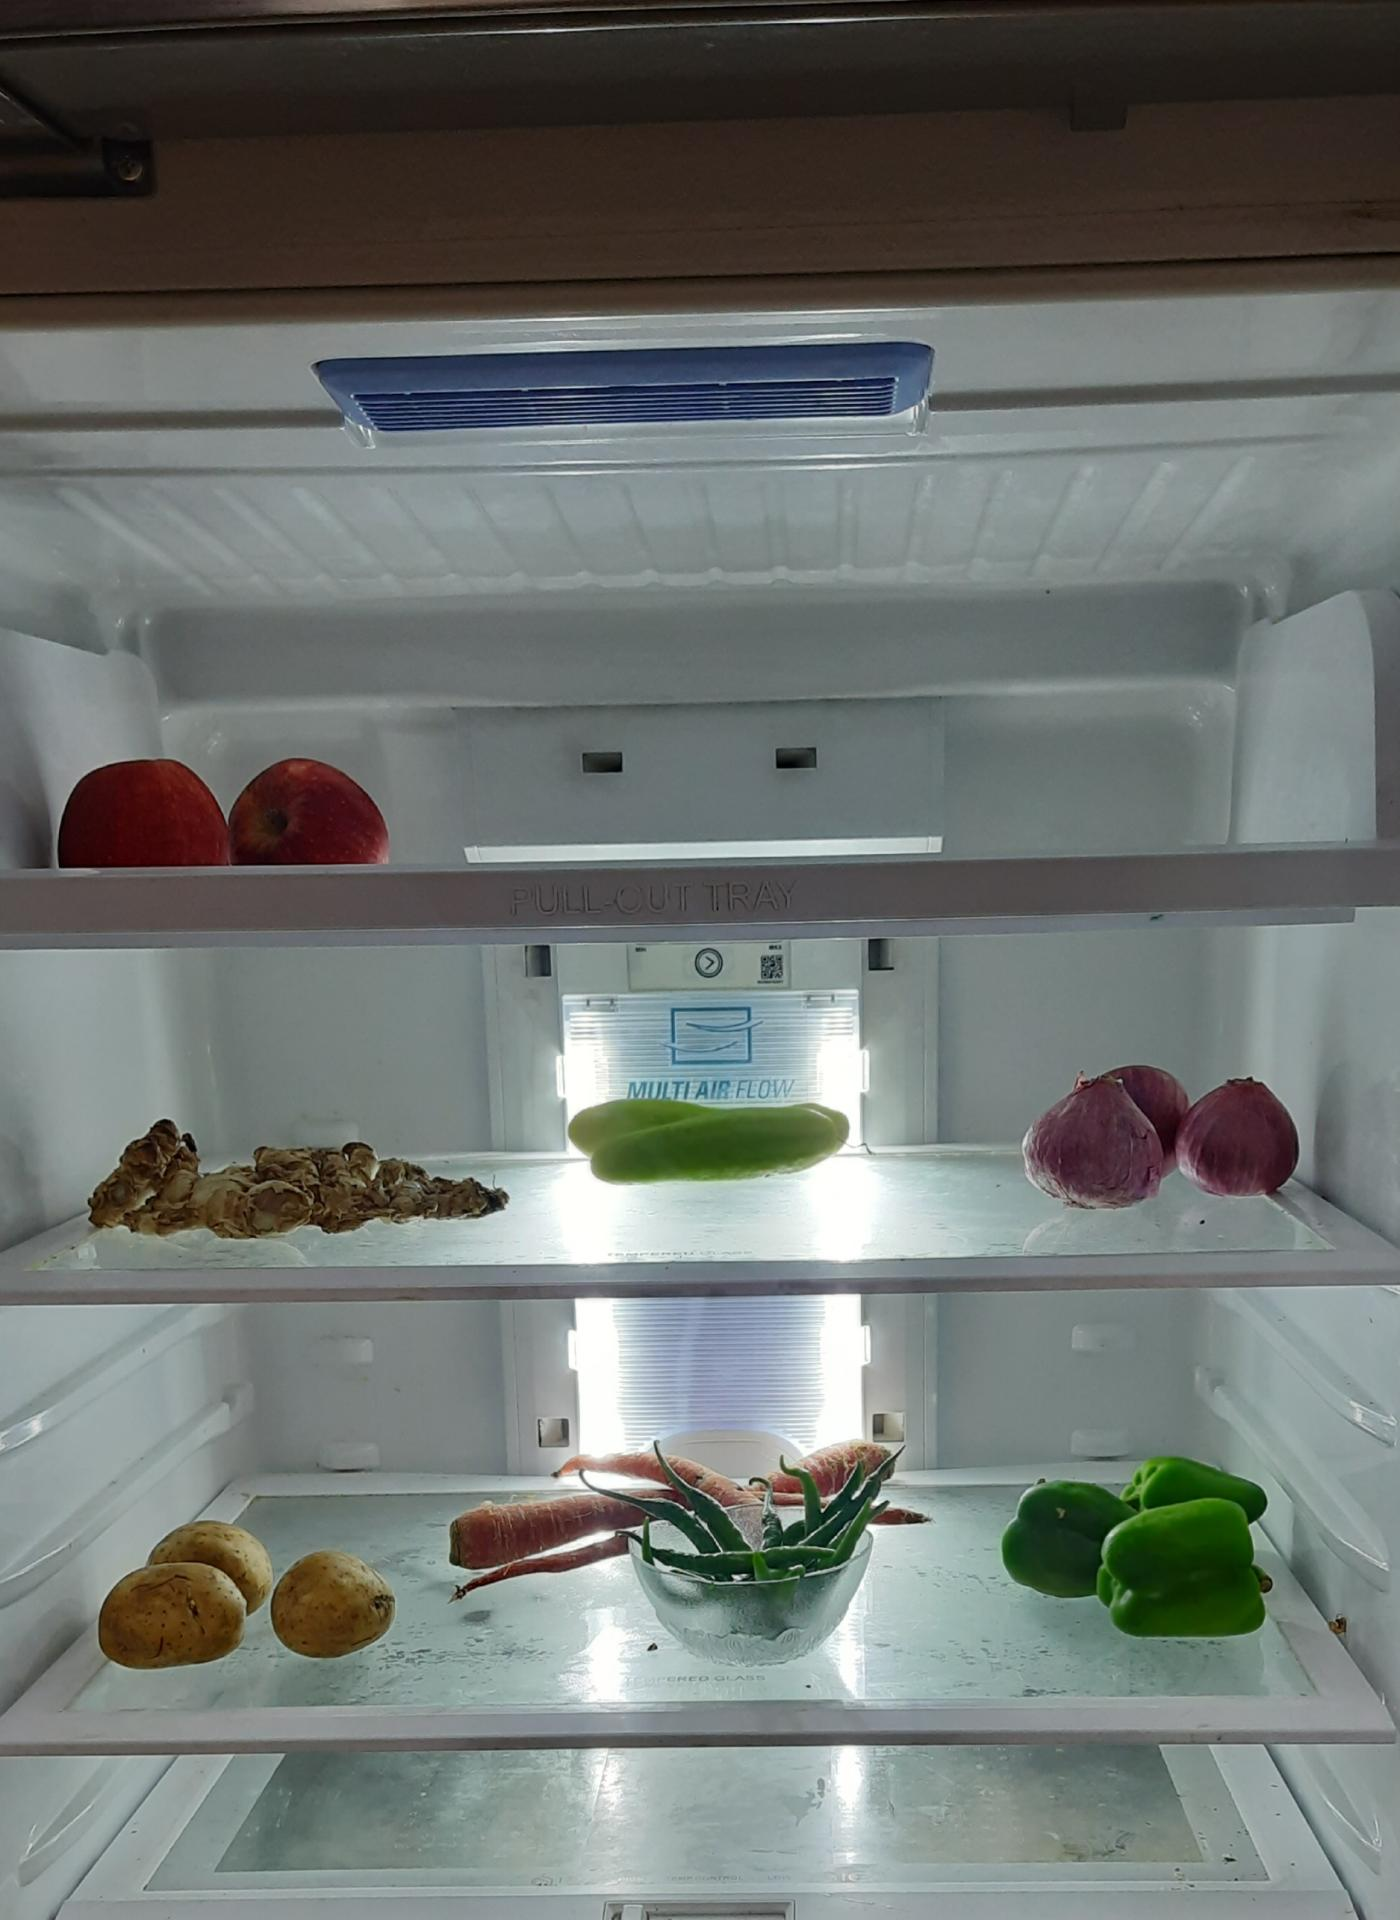apple: (45, 751, 388, 875)
capsicum: (1008, 1459, 1288, 1658)
carrots: (417, 1413, 901, 1567)
chillies: (622, 1447, 904, 1661)
cucumber: (565, 1091, 875, 1179)
ginger: (89, 1117, 510, 1239)
onion: (1020, 1057, 1296, 1203)
potato: (89, 1528, 273, 1679), (270, 1555, 406, 1668)
